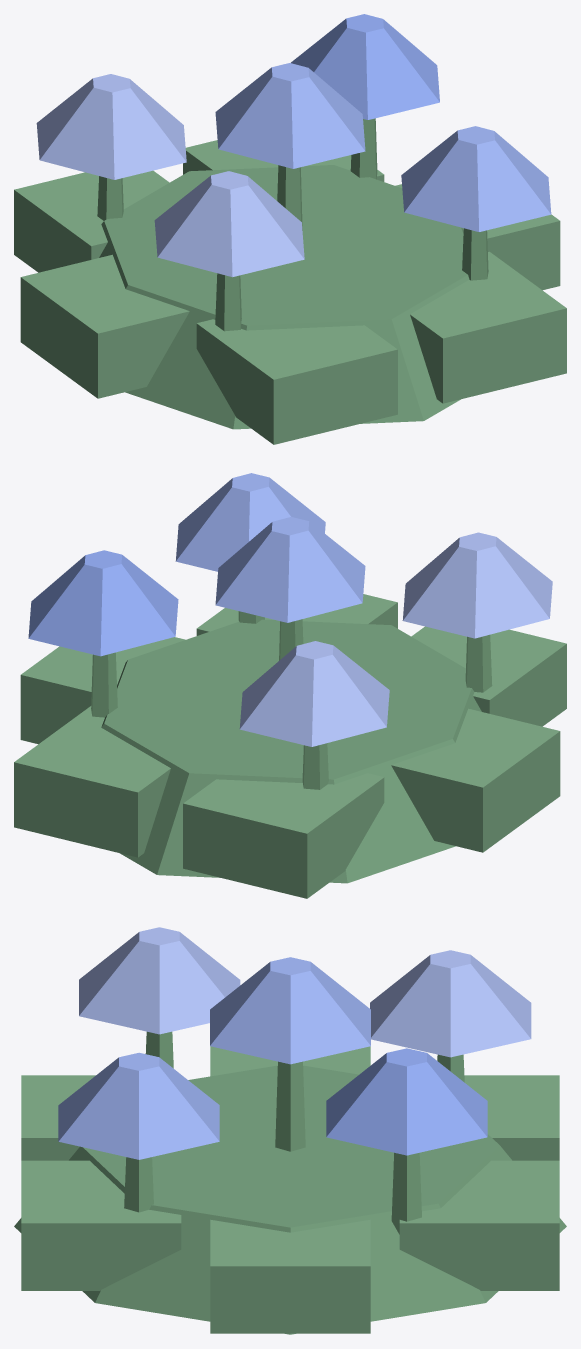
The model's file is flora_16_agapanthus_hoa_thanh_anh_blue_lily_cluster.glb.
The picture shows the model from 3 angles, top to bottom: view 1: azimuth 30°, elevation 25°; view 2: azimuth 150°, elevation 25°; view 3: azimuth 270°, elevation 25°; orthographic projection. The views are drawn at different scales.
Visible parts, largest first — view 1: flora_16_agapanthus_hoa_thanh_anh_blue_lily_cluster; view 2: flora_16_agapanthus_hoa_thanh_anh_blue_lily_cluster; view 3: flora_16_agapanthus_hoa_thanh_anh_blue_lily_cluster.
Boxes of the visible parts, left/top/right/bottom form: flora_16_agapanthus_hoa_thanh_anh_blue_lily_cluster: left=14, top=14, right=566, bottom=444; flora_16_agapanthus_hoa_thanh_anh_blue_lily_cluster: left=14, top=473, right=566, bottom=898; flora_16_agapanthus_hoa_thanh_anh_blue_lily_cluster: left=14, top=927, right=566, bottom=1334.
Size of the model in its own units: 2.6 by 1.35 by 2.6.
